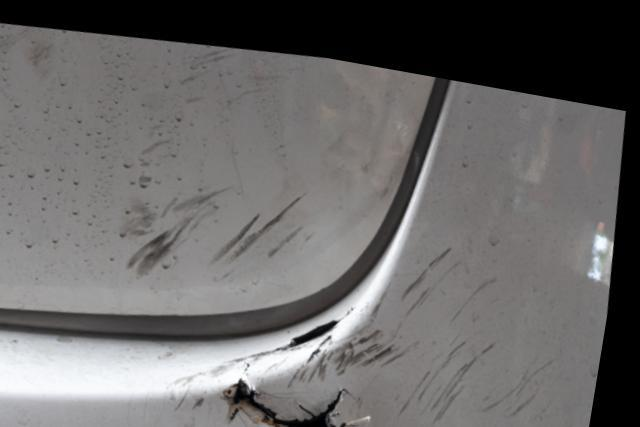crack: (238, 300, 369, 427)
scratch: (309, 220, 602, 427), (115, 162, 345, 268)
